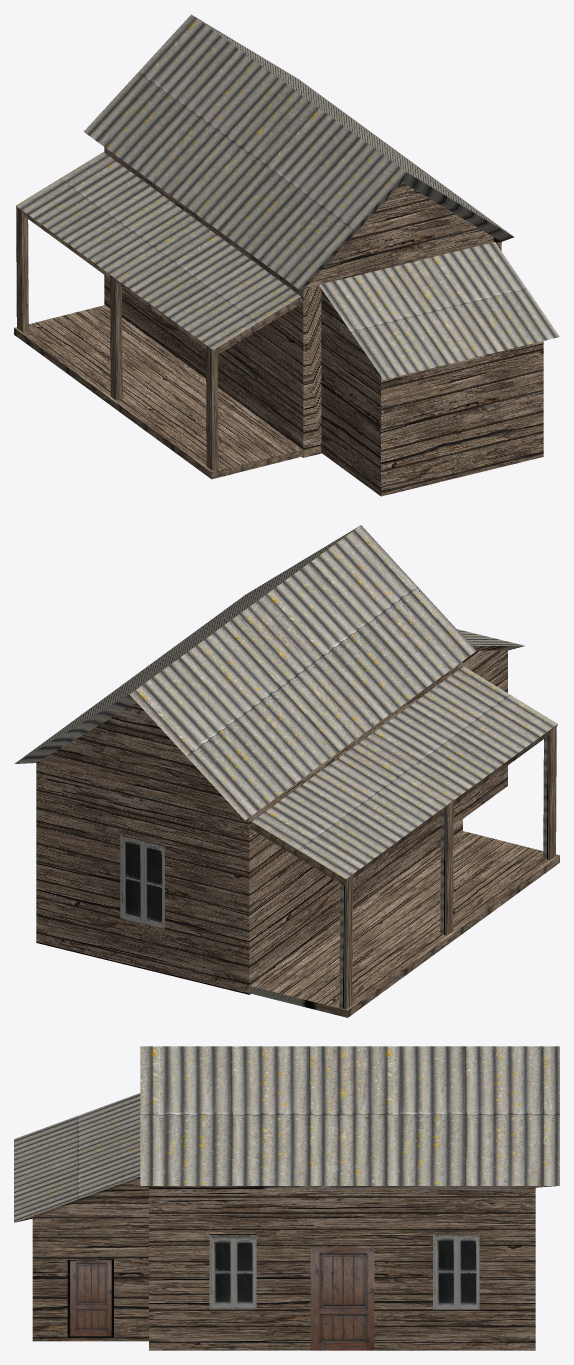
File: house1.fbx
3 renders of one model, top to bottom at view 1: azimuth 30°, elevation 25°; view 2: azimuth 150°, elevation 25°; view 3: azimuth 270°, elevation 25°, orthographic. The views are drawn at different scales.
Visible parts, largest first — view 1: Cube; view 2: Cube; view 3: Cube.
Part boxes in pixels (x1,y1,x2,y2): Cube: (14,14,559,496); Cube: (14,525,559,1017); Cube: (14,1046,559,1350).
Bounding box in the file's own units: 154 × 131 × 251.
1 material, 1 textured.
